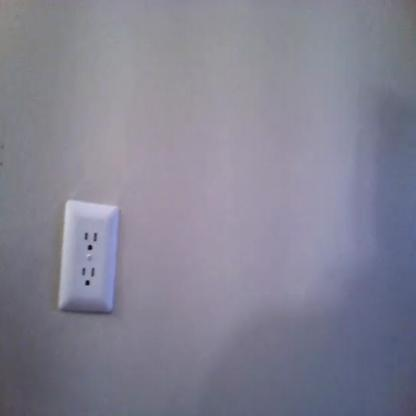OUTLET: (61, 201, 114, 310)
